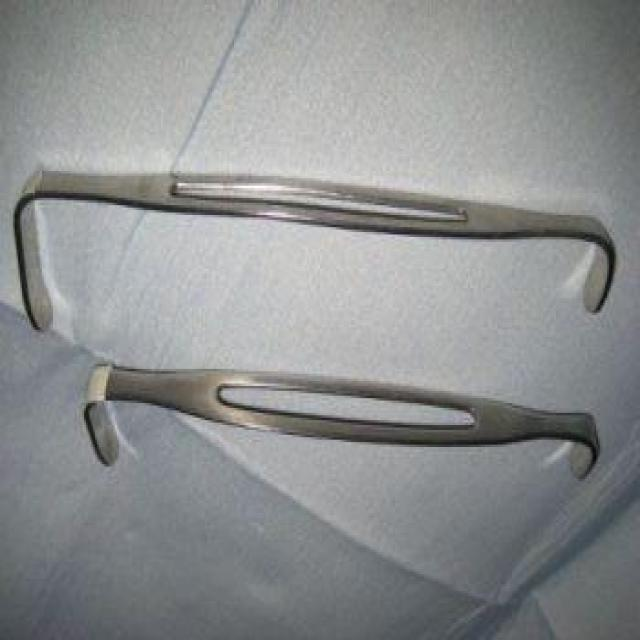Army_navy: (9, 164, 624, 342), (79, 356, 604, 488)
